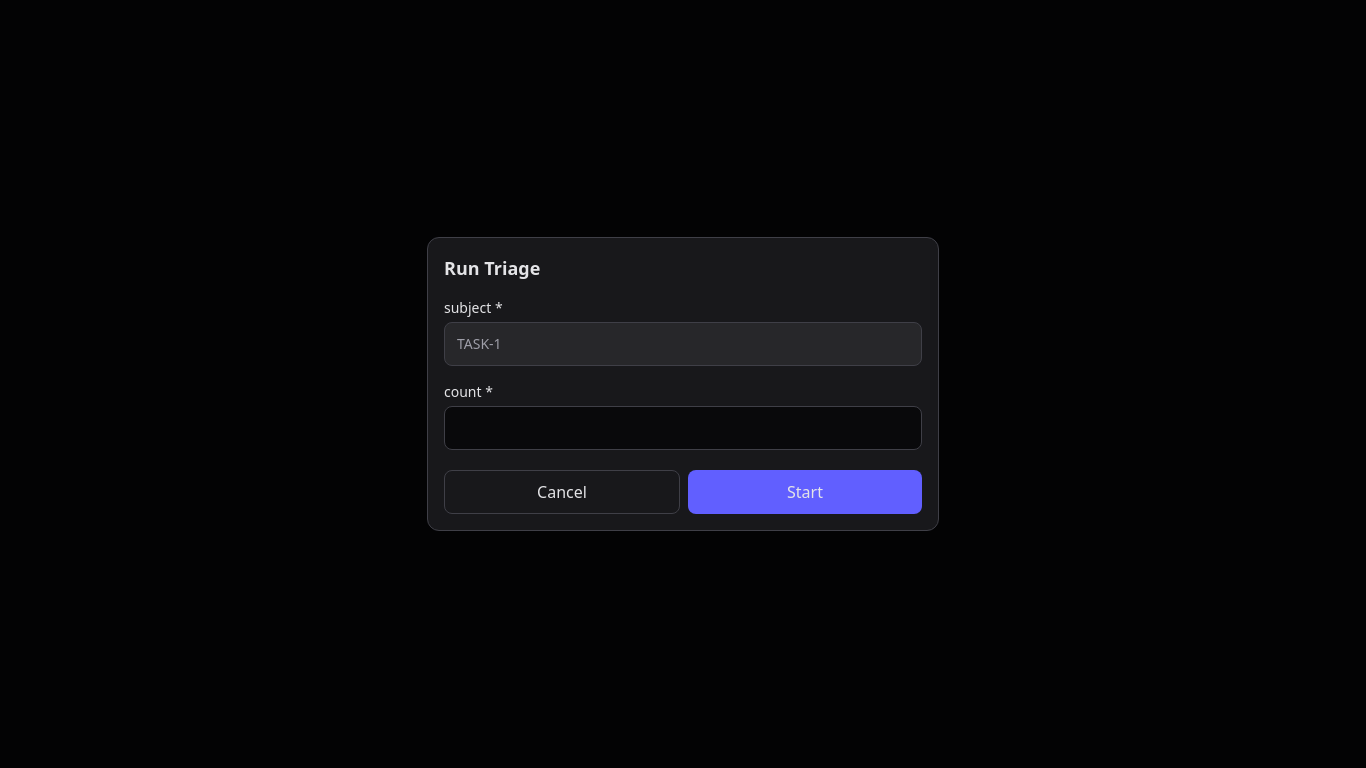
Scenario: RunWorkflowDialog › keeps API errors visible for correction
Type "3" into the number field named "count". click: (683, 428)
box: [444,406,922,450]
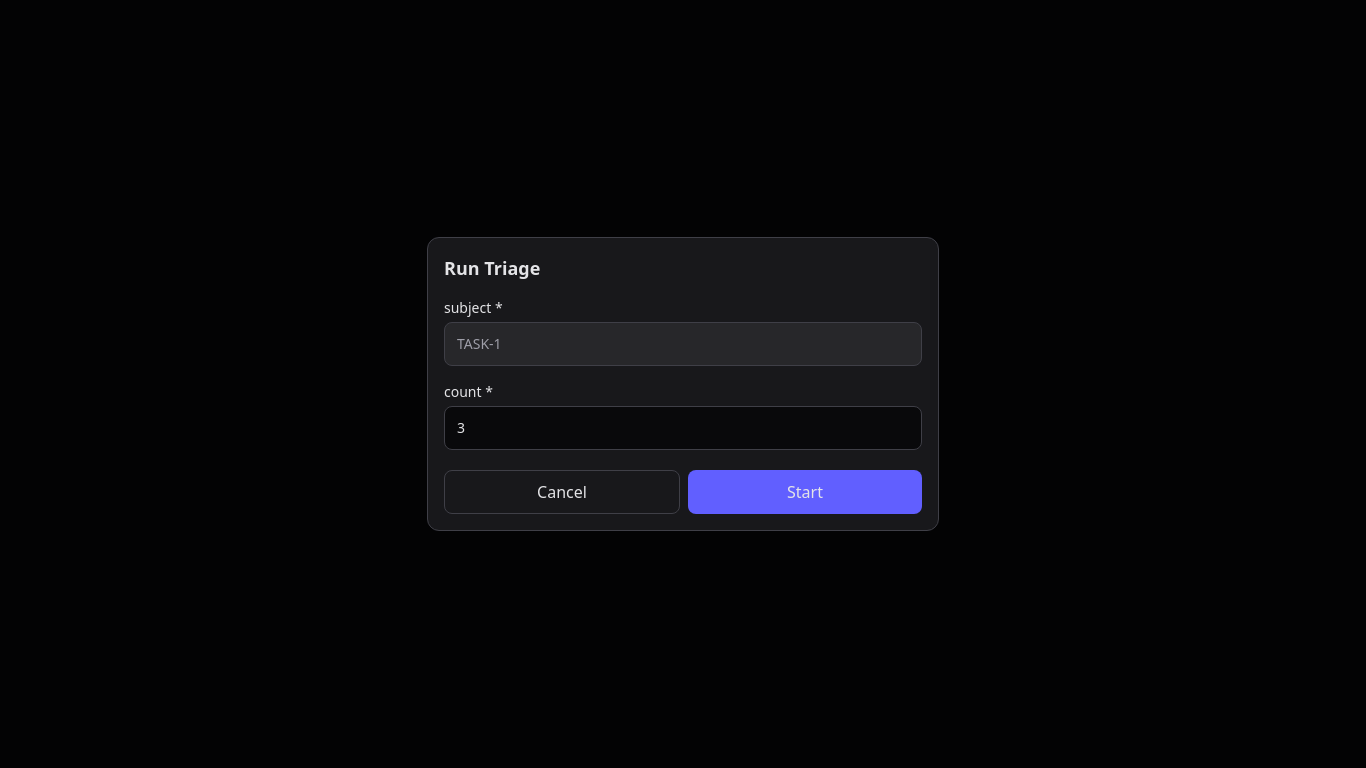
Submit the form, box [427,237,939,531]
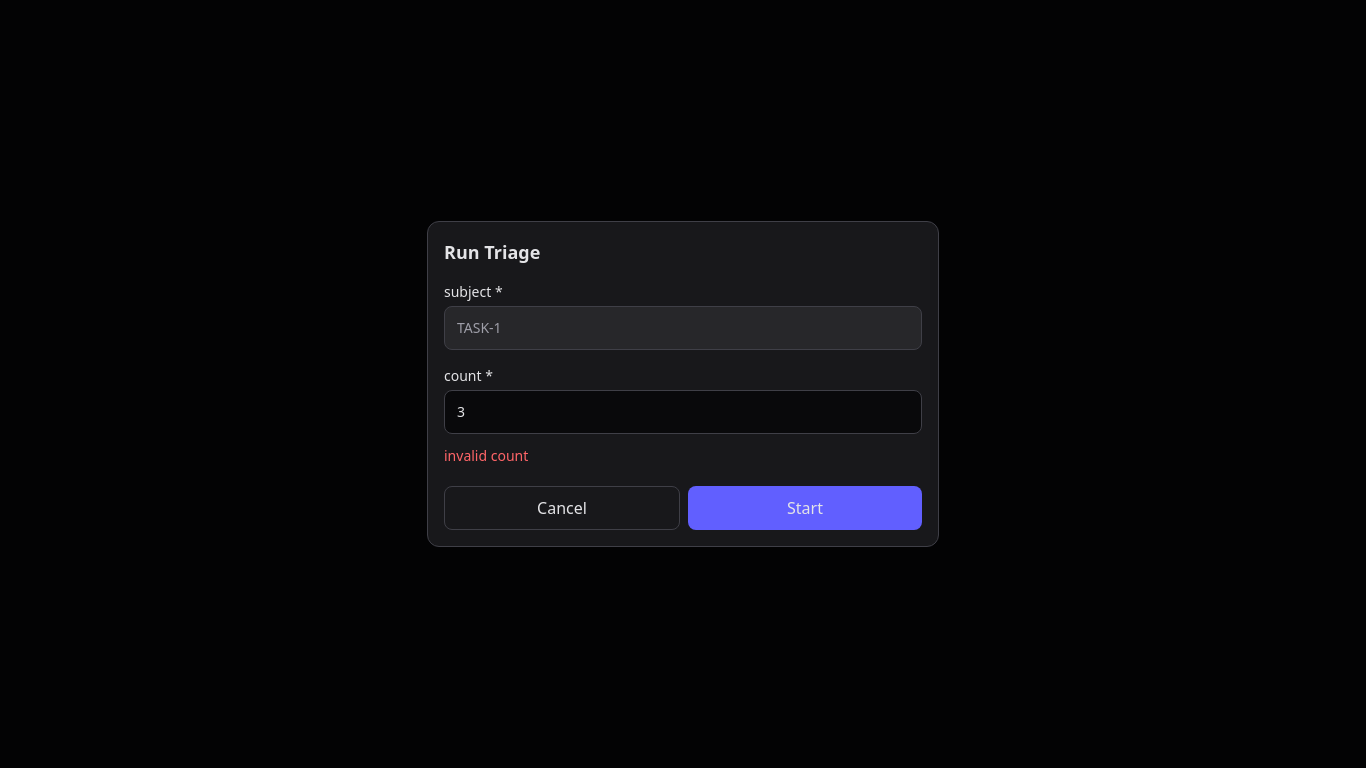
Expected: the text "invalid count" is shown, [444,446,528,465]
